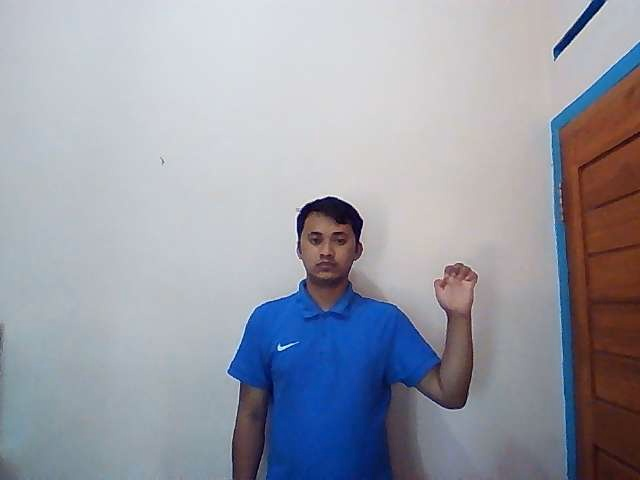E: (433, 262, 478, 314)
